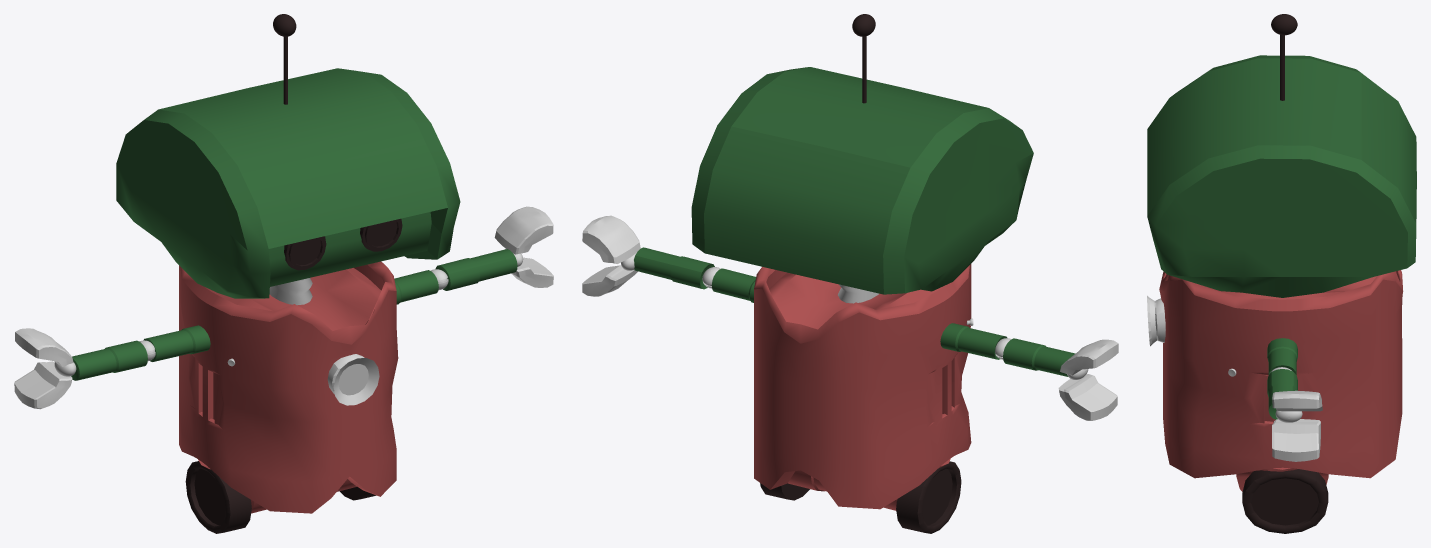
The picture shows the model from 3 angles, left to right: view 1: azimuth 30°, elevation 25°; view 2: azimuth 150°, elevation 25°; view 3: azimuth 270°, elevation 25°; orthographic projection. The views are drawn at different scales.
Parts seen in each view (by area): view 1: polySurface2, Chest, Wheels_2, Scanner, RightArm8, RightArm5, RightHand_4, RightHand_6, RightArm9, RightHand_5, RightArm4, Eyes1 (+3 smaller); view 2: polySurface2, Chest, Wheels_2, RightHand_4, RightArm5, RightHand_6, RightArm8, RightArm9, RightHand_5, RightArm4, RightHand_3; view 3: polySurface2, Chest, Wheels_1, RightHand_3, RightHand_4, RightArm4, RightArm5, Scanner, AntinaBall, Hips2, AntenaL.
Part boxes in pixels (left/top/right/bottom): polySurface2: left=116, top=68, right=460, bottom=298; Chest: left=179, top=261, right=398, bottom=513; Wheels_2: left=185, top=461, right=251, bottom=533; Scanner: left=327, top=354, right=379, bottom=405; RightArm8: left=71, top=340, right=147, bottom=380; RightArm5: left=435, top=249, right=517, bottom=290; RightHand_4: left=494, top=206, right=553, bottom=254; RightHand_6: left=14, top=361, right=72, bottom=409; RightArm9: left=143, top=325, right=210, bottom=361; RightHand_5: left=15, top=328, right=73, bottom=366; RightArm4: left=394, top=270, right=438, bottom=304; Eyes1: left=284, top=236, right=326, bottom=270; polySurface2: left=691, top=67, right=1033, bottom=294; Chest: left=754, top=264, right=971, bottom=509; Wheels_2: left=896, top=461, right=961, bottom=533; RightHand_4: left=582, top=215, right=640, bottom=263; RightArm5: left=634, top=247, right=714, bottom=289; RightHand_6: left=1058, top=373, right=1117, bottom=420; RightArm8: left=1003, top=338, right=1075, bottom=376; RightArm9: left=940, top=323, right=1007, bottom=359; RightHand_5: left=1060, top=339, right=1118, bottom=375; RightArm4: left=711, top=268, right=756, bottom=302; RightHand_3: left=582, top=265, right=637, bottom=296; polySurface2: left=1147, top=55, right=1416, bottom=297; Chest: left=1159, top=270, right=1403, bottom=478; Wheels_1: left=1242, top=469, right=1328, bottom=533; RightHand_3: left=1272, top=419, right=1320, bottom=461; RightHand_4: left=1272, top=390, right=1322, bottom=411; RightArm4: left=1267, top=338, right=1297, bottom=374; RightArm5: left=1267, top=369, right=1297, bottom=419; Scanner: left=1147, top=295, right=1165, bottom=346; AntinaBall: left=1271, top=14, right=1297, bottom=35; Hips2: left=1236, top=467, right=1328, bottom=491; AntenaL: left=1280, top=35, right=1284, bottom=100.
Bounding box in the file's own units: 99.45 × 90.5 × 46.1.
